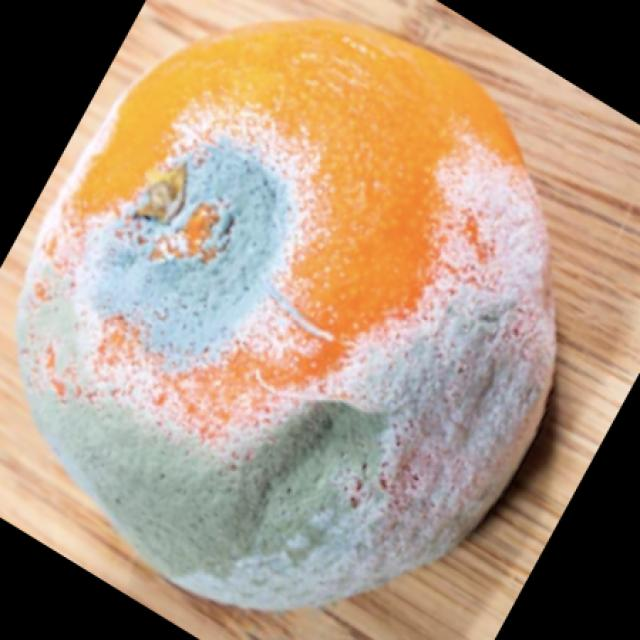sangat_busuk: (25, 21, 551, 606)
